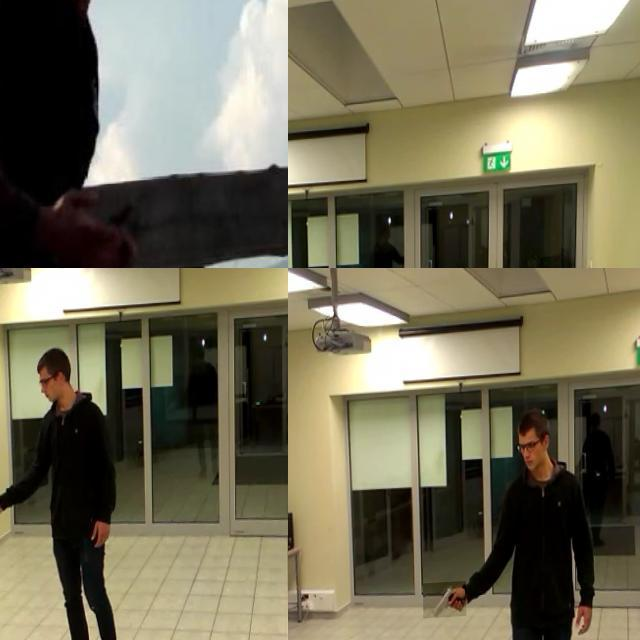gun-knife-thesis - v11 Yolov5 augmented: (422, 584, 466, 621), (0, 487, 18, 521)
